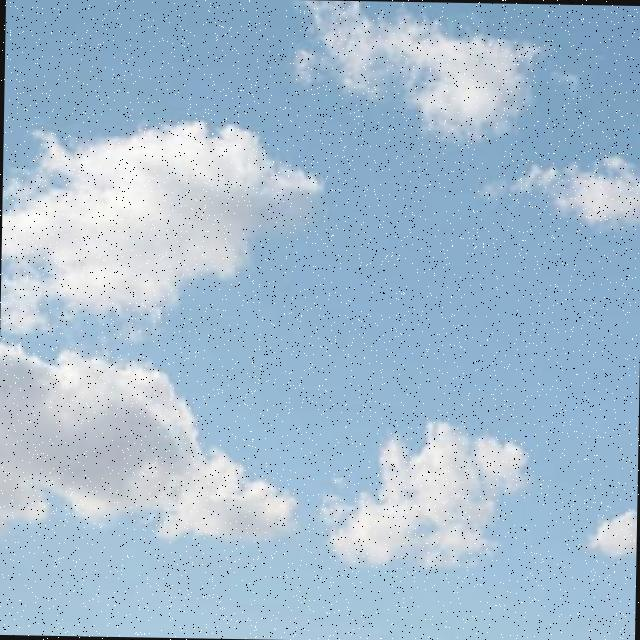Cc: (1, 1, 640, 566)
